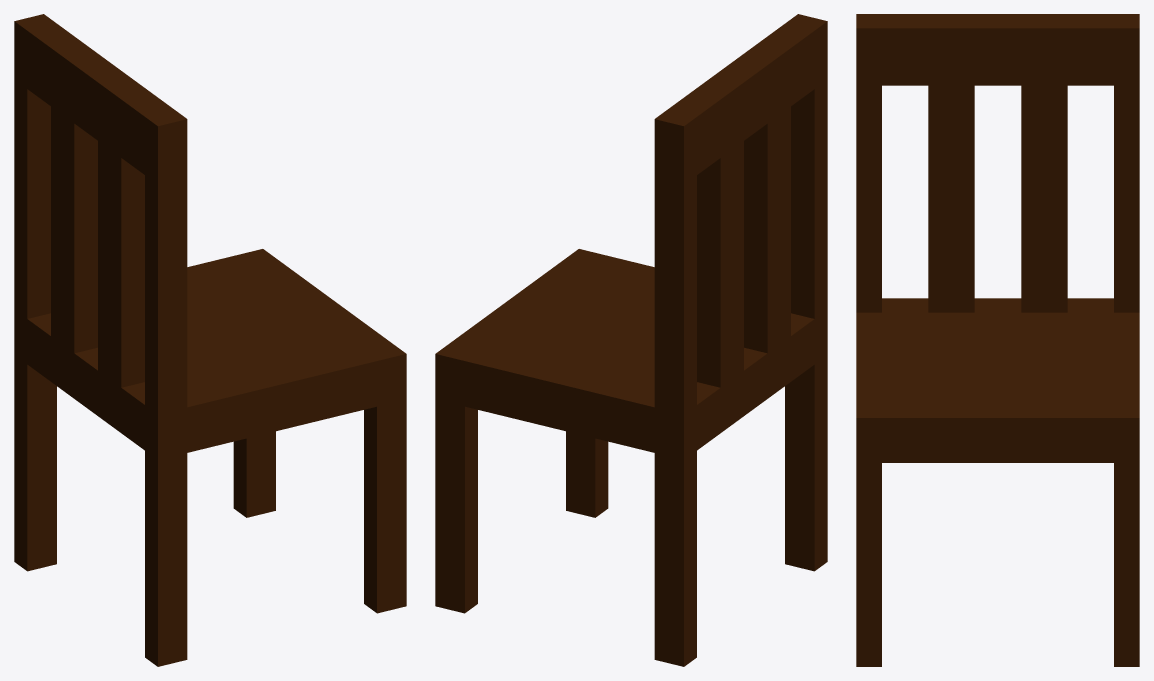
File: Chair.fbx
3 views of the same model, side by side, from view 1: azimuth 30°, elevation 25°; view 2: azimuth 150°, elevation 25°; view 3: azimuth 270°, elevation 25° (orthographic).
Parts seen in each view (by area): view 1: pCube1; view 2: pCube1; view 3: pCube1.
Part boxes in pixels (x1=…): pCube1: x1=14, y1=14, x2=406, y2=666; pCube1: x1=435, y1=14, x2=827, y2=666; pCube1: x1=856, y1=14, x2=1139, y2=666.
Bounding box in the file's own units: 1 × 2.08 × 1.
